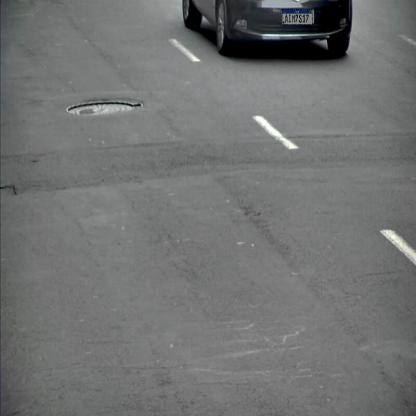PlacaM: (282, 9, 312, 25)
